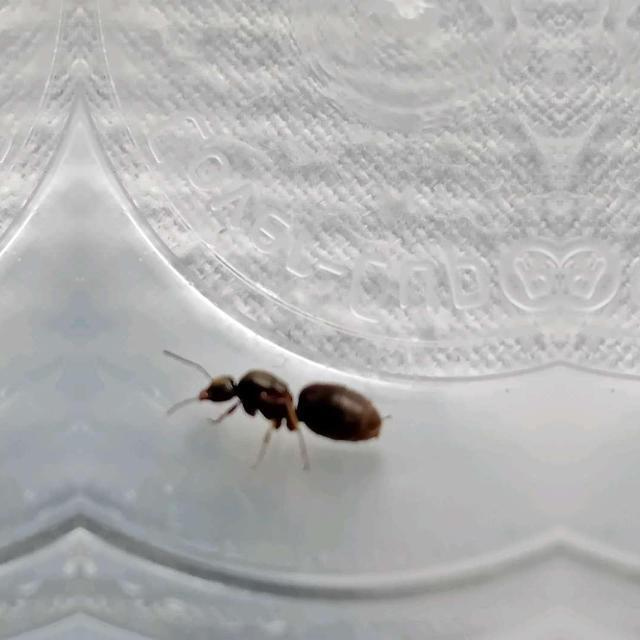Lasius: (157, 340, 391, 472)
